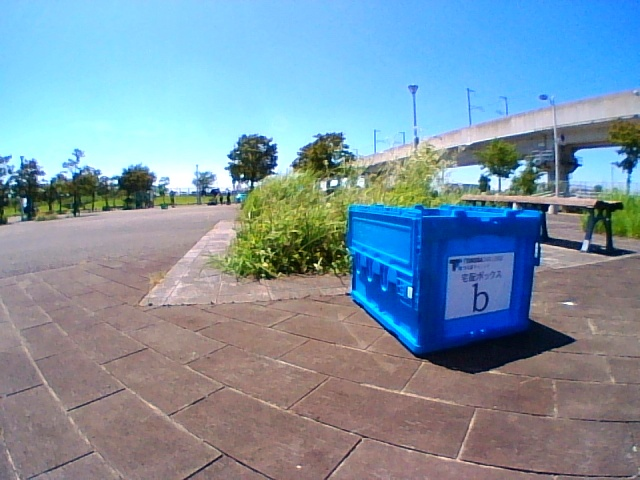blue_box: (376, 211, 527, 323)
tag_b: (460, 275, 493, 312)
